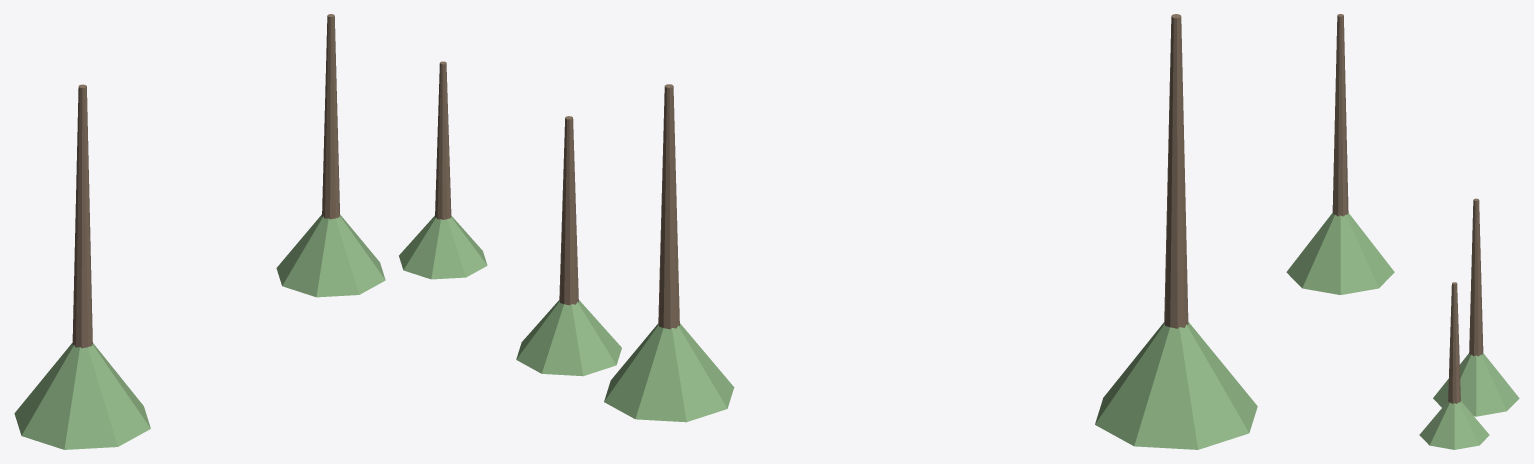
The model's file is SM_Pine_Homestead.fbx.
The picture shows the model from 3 angles, left to right: view 1: azimuth 30°, elevation 25°; view 2: azimuth 150°, elevation 25°; view 3: azimuth 270°, elevation 25°; orthographic projection. The views are drawn at different scales.
Visible parts, largest first — view 1: SM_Pine_Homestead_L_Foliage_0, SM_Pine_Homestead_M_Foliage_0, SM_Pine_Homestead_L_Trunk, SM_Pine_Homestead_S_Foliage_0, SM_Pine_Homestead_M_Trunk, SM_Pine_Homestead_S_Trunk; view 2: SM_Pine_Homestead_L_Foliage_0, SM_Pine_Homestead_M_Foliage_0, SM_Pine_Homestead_L_Trunk, SM_Pine_Homestead_S_Foliage_0, SM_Pine_Homestead_M_Trunk, SM_Pine_Homestead_S_Trunk; view 3: SM_Pine_Homestead_L_Foliage_0, SM_Pine_Homestead_M_Foliage_0, SM_Pine_Homestead_L_Trunk, SM_Pine_Homestead_S_Foliage_0, SM_Pine_Homestead_M_Trunk, SM_Pine_Homestead_S_Trunk.
Boxes of the visible parts, box(x1,y1,x2,y2) form: SM_Pine_Homestead_L_Foliage_0: box(14, 343, 150, 449); SM_Pine_Homestead_M_Foliage_0: box(276, 214, 385, 297); SM_Pine_Homestead_L_Trunk: box(72, 84, 92, 348); SM_Pine_Homestead_S_Foliage_0: box(399, 215, 487, 279); SM_Pine_Homestead_M_Trunk: box(322, 14, 339, 219); SM_Pine_Homestead_S_Trunk: box(435, 61, 451, 219); SM_Pine_Homestead_L_Foliage_0: box(1095, 322, 1257, 449); SM_Pine_Homestead_M_Foliage_0: box(604, 323, 734, 422); SM_Pine_Homestead_L_Trunk: box(1164, 14, 1188, 328); SM_Pine_Homestead_S_Foliage_0: box(516, 300, 621, 376); SM_Pine_Homestead_M_Trunk: box(658, 84, 679, 329); SM_Pine_Homestead_S_Trunk: box(559, 116, 578, 305); SM_Pine_Homestead_L_Foliage_0: box(1286, 213, 1394, 294); SM_Pine_Homestead_M_Foliage_0: box(1433, 353, 1519, 416); SM_Pine_Homestead_L_Trunk: box(1332, 14, 1348, 216); SM_Pine_Homestead_S_Foliage_0: box(1419, 401, 1489, 449); SM_Pine_Homestead_M_Trunk: box(1469, 198, 1483, 356); SM_Pine_Homestead_S_Trunk: box(1448, 282, 1460, 403).
Bounding box in the file's own units: 8.6 × 17.5 × 10.45.
